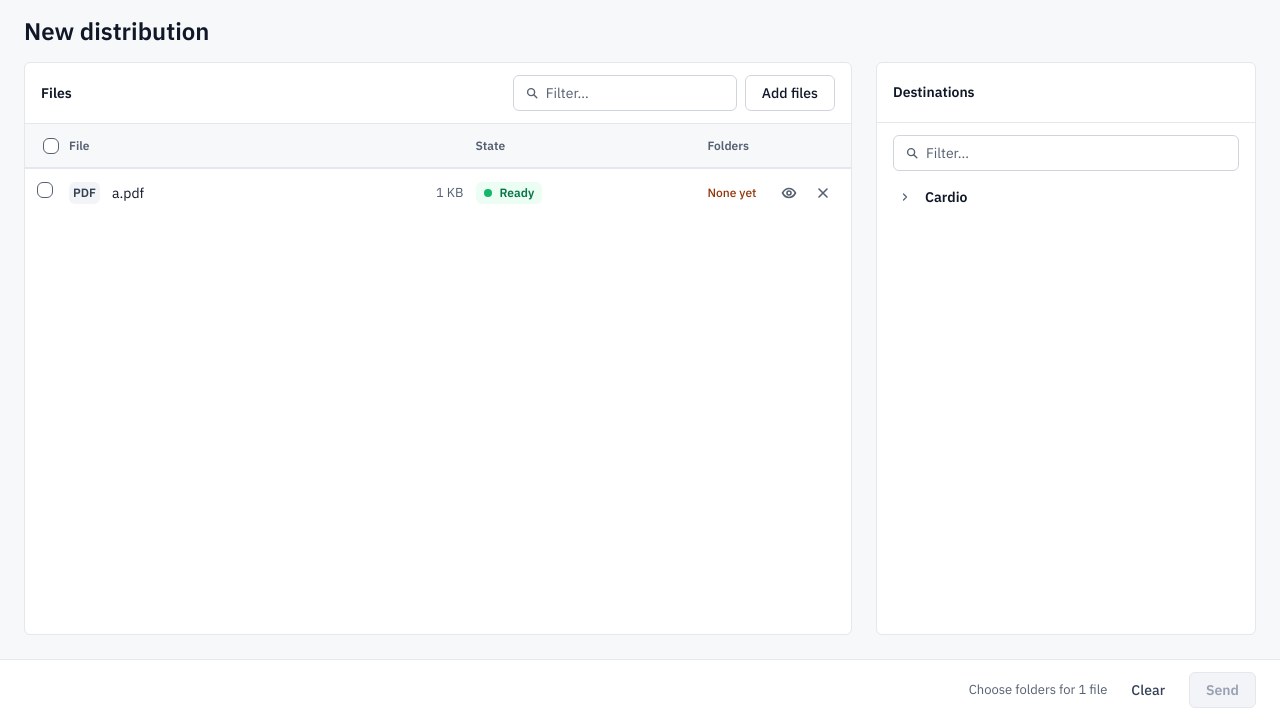
Test: Distribute › shows the platform message and keeps the page as it is when the platform is down
Click the button named "Expand Cardio": (905, 197) left=893, top=185, right=917, bottom=209
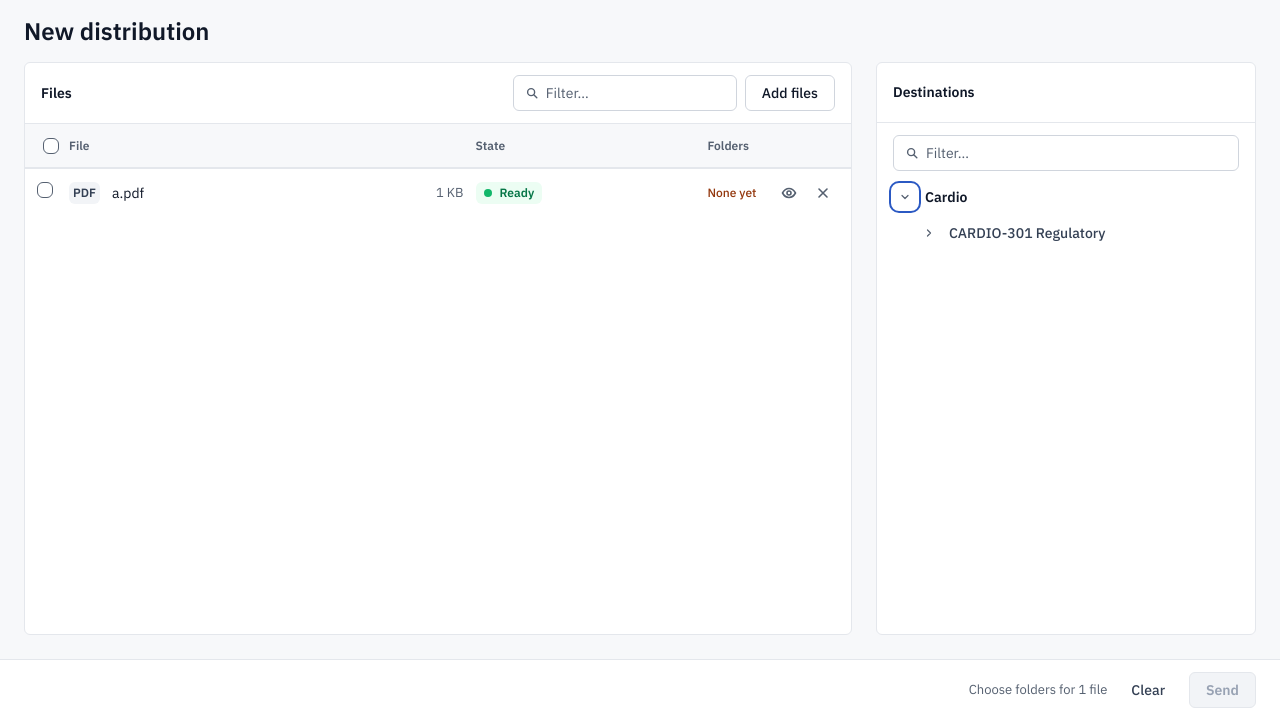
Click the button named "Expand CARDIO-301 Regulatory": (929, 233) left=917, top=221, right=941, bottom=245
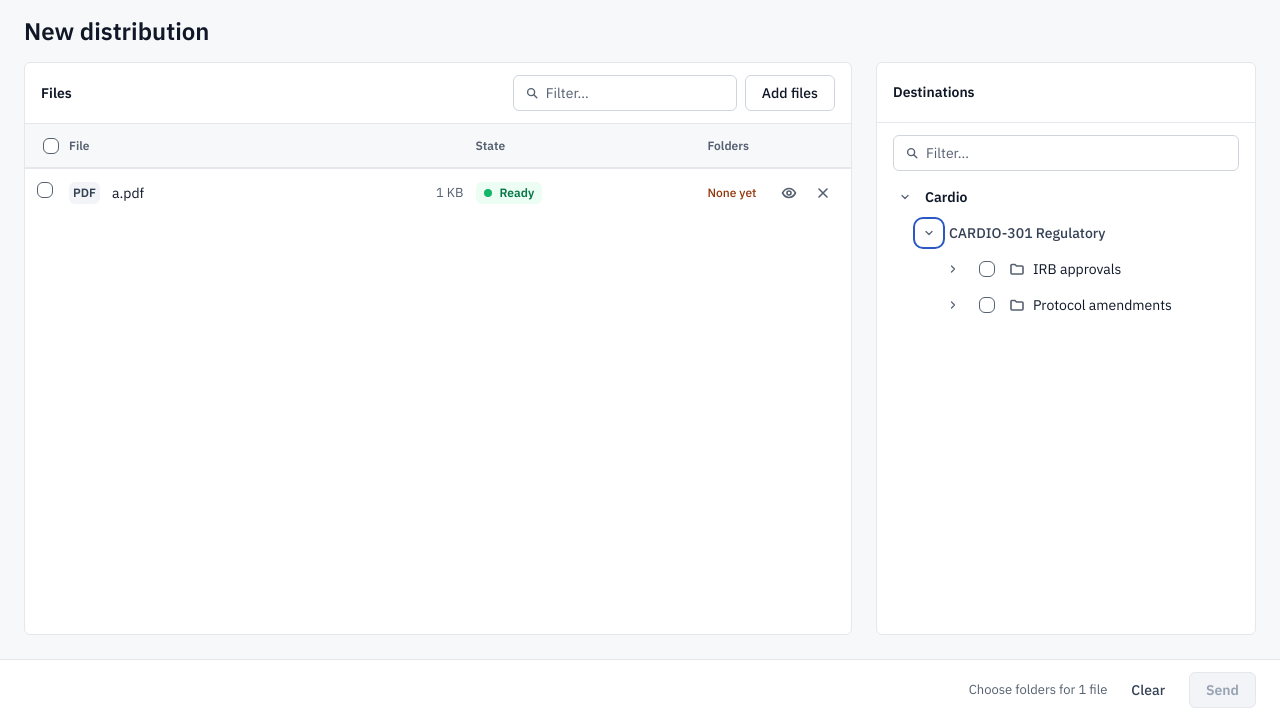
Click the checkbox named "Send all 1 file to Cardio / CARDIO-301 Regulatory / IRB appr": (987, 269) left=973, top=255, right=1001, bottom=283
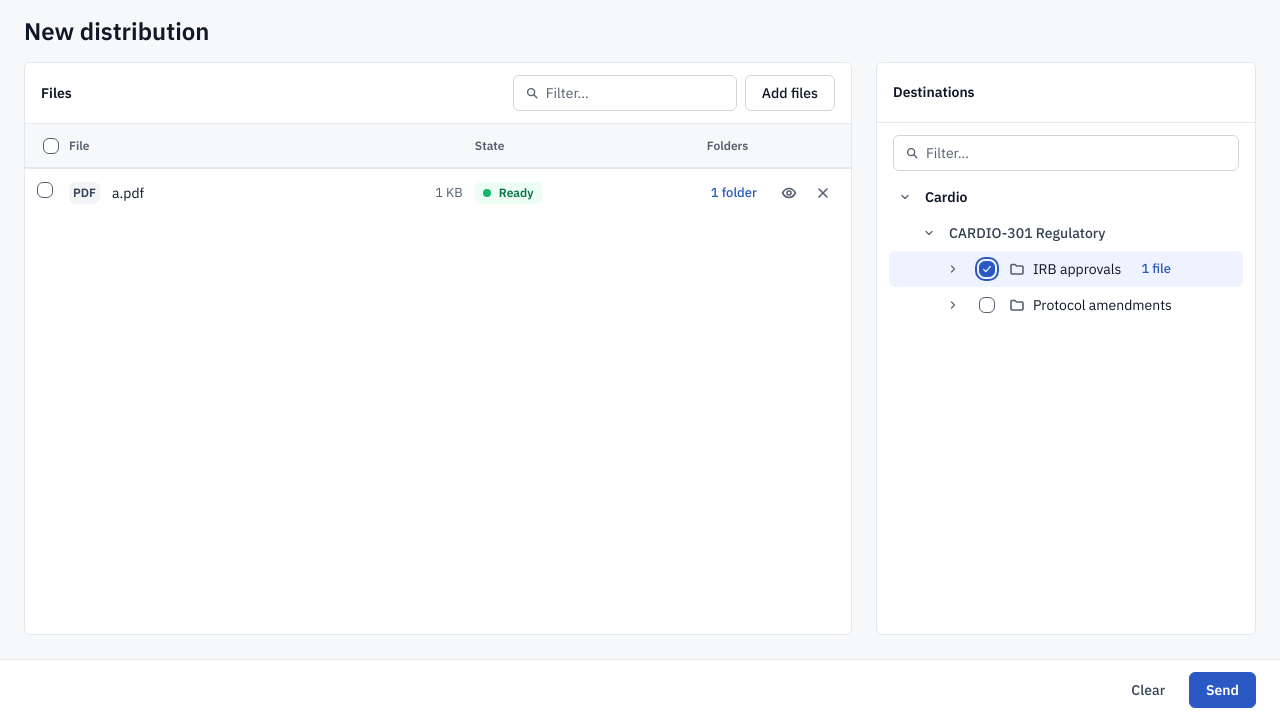
Click the button "Send": (1222, 690) left=1189, top=672, right=1256, bottom=708
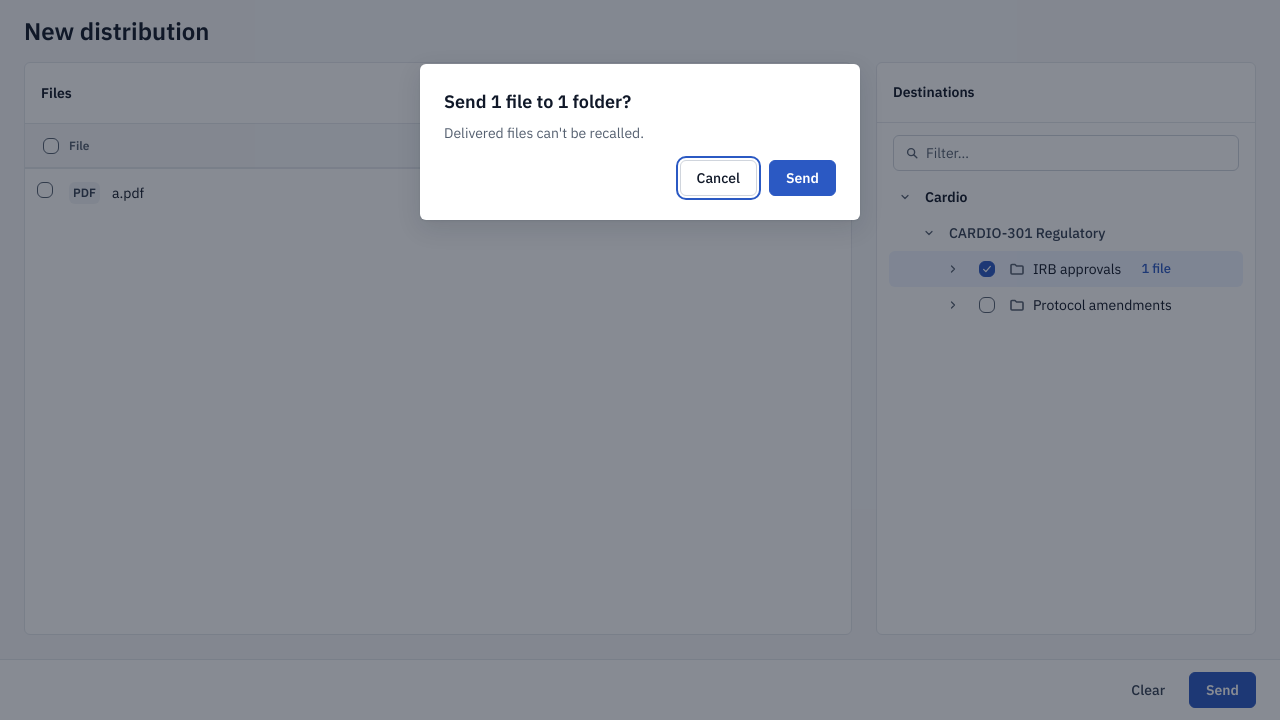
Click the button "Send": (802, 178) left=769, top=160, right=836, bottom=196
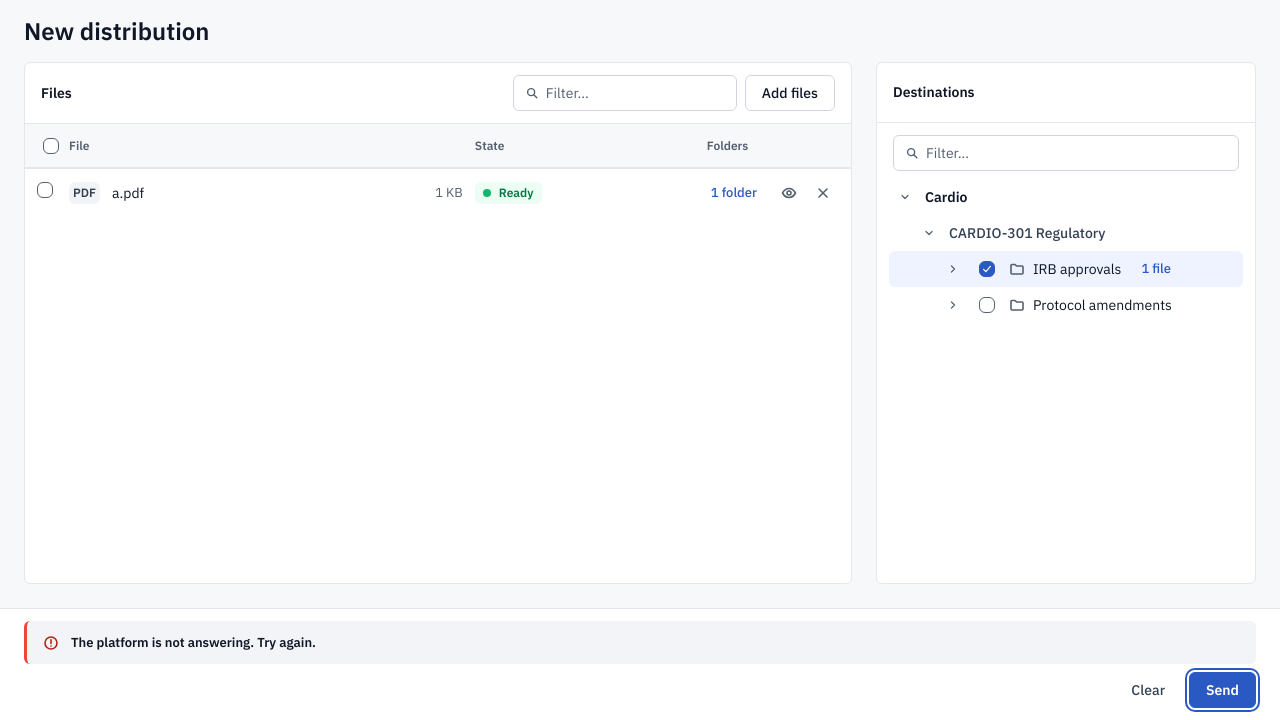
Expected: the button "Send" is shown, left=1189, top=672, right=1256, bottom=708
Now the text "The platform is not answering. Try again." is shown, box left=71, top=634, right=316, bottom=650
